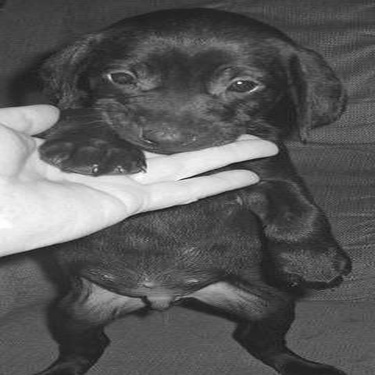dog: (32, 6, 357, 373)
